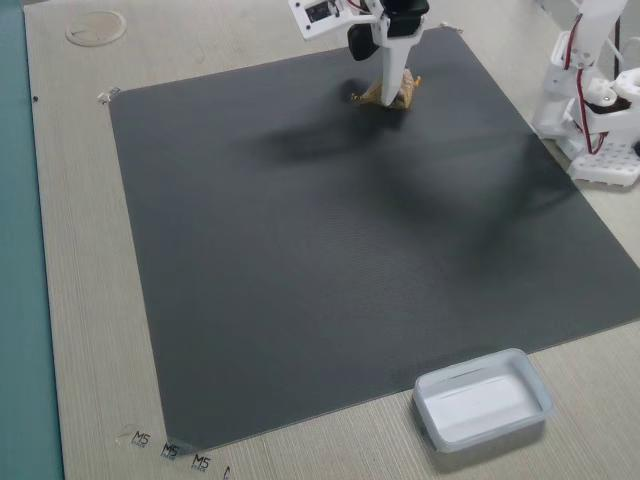objects: (316, 7, 430, 103)
